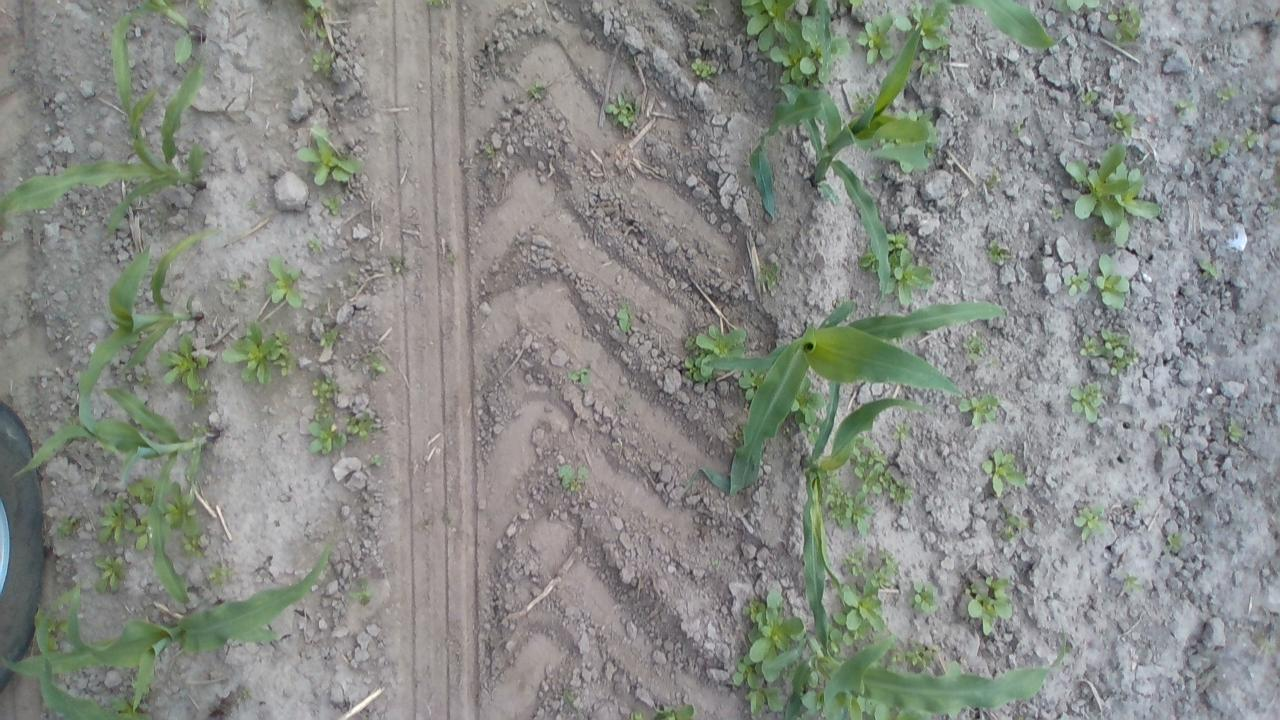Maize: (696, 291, 1009, 499), (4, 540, 334, 714), (751, 0, 928, 310), (11, 384, 224, 608), (2, 38, 211, 244), (796, 376, 936, 670), (766, 627, 1066, 720), (74, 229, 205, 440), (32, 655, 148, 720), (946, 0, 1060, 52), (120, 0, 208, 48), (814, 0, 838, 83)
Weeds: (1061, 139, 1164, 252), (729, 584, 806, 715), (737, 0, 850, 86), (858, 227, 934, 306), (308, 376, 375, 461), (288, 124, 370, 188), (852, 434, 916, 509), (220, 320, 282, 395), (824, 586, 886, 658), (960, 570, 1020, 640), (680, 320, 744, 385), (824, 471, 878, 536), (838, 543, 904, 595), (1078, 324, 1142, 376), (896, 105, 940, 178), (160, 334, 210, 391), (895, 0, 952, 49), (976, 448, 1028, 498), (93, 493, 137, 548), (1092, 250, 1130, 313), (263, 252, 305, 308), (854, 10, 896, 63), (165, 482, 201, 538), (904, 576, 948, 621), (791, 376, 830, 424), (956, 390, 1002, 430), (1068, 379, 1108, 423), (271, 328, 305, 379), (92, 555, 132, 597), (1072, 503, 1112, 545), (1108, 0, 1145, 45), (31, 606, 68, 648), (994, 506, 1030, 548), (602, 88, 638, 130), (353, 344, 388, 378), (50, 507, 80, 546), (901, 640, 940, 670), (298, 6, 329, 42), (204, 560, 236, 592), (1062, 264, 1094, 296), (1106, 107, 1138, 139), (556, 460, 588, 491), (344, 577, 378, 606), (736, 369, 764, 402), (1048, 0, 1102, 17), (128, 474, 154, 508), (308, 48, 336, 78), (522, 74, 551, 102), (689, 56, 720, 82), (755, 260, 780, 292), (1194, 256, 1222, 284), (614, 295, 633, 336), (1118, 570, 1145, 598), (652, 703, 696, 720), (986, 237, 1010, 268), (564, 362, 592, 388), (1224, 413, 1246, 446), (173, 530, 205, 552), (963, 330, 985, 362), (109, 693, 137, 718), (320, 193, 348, 217), (917, 50, 939, 80), (1237, 123, 1260, 151), (888, 419, 912, 444), (182, 389, 208, 412), (1154, 417, 1174, 443), (854, 87, 876, 110), (560, 680, 578, 708), (1205, 138, 1228, 159), (1215, 82, 1236, 105), (228, 272, 248, 296), (1010, 115, 1028, 140), (185, 419, 210, 436), (801, 422, 819, 445), (1176, 96, 1196, 116), (316, 326, 338, 344), (1164, 530, 1182, 552), (1049, 198, 1065, 222), (388, 253, 407, 273), (304, 236, 326, 253), (986, 168, 1001, 192), (1078, 85, 1098, 103), (694, 0, 714, 18), (137, 370, 152, 388), (840, 0, 866, 10), (888, 648, 903, 664), (482, 144, 497, 160), (233, 688, 248, 700), (626, 710, 643, 720), (196, 0, 210, 10), (427, 0, 445, 7), (248, 200, 257, 211), (444, 251, 454, 260), (710, 557, 719, 565)
